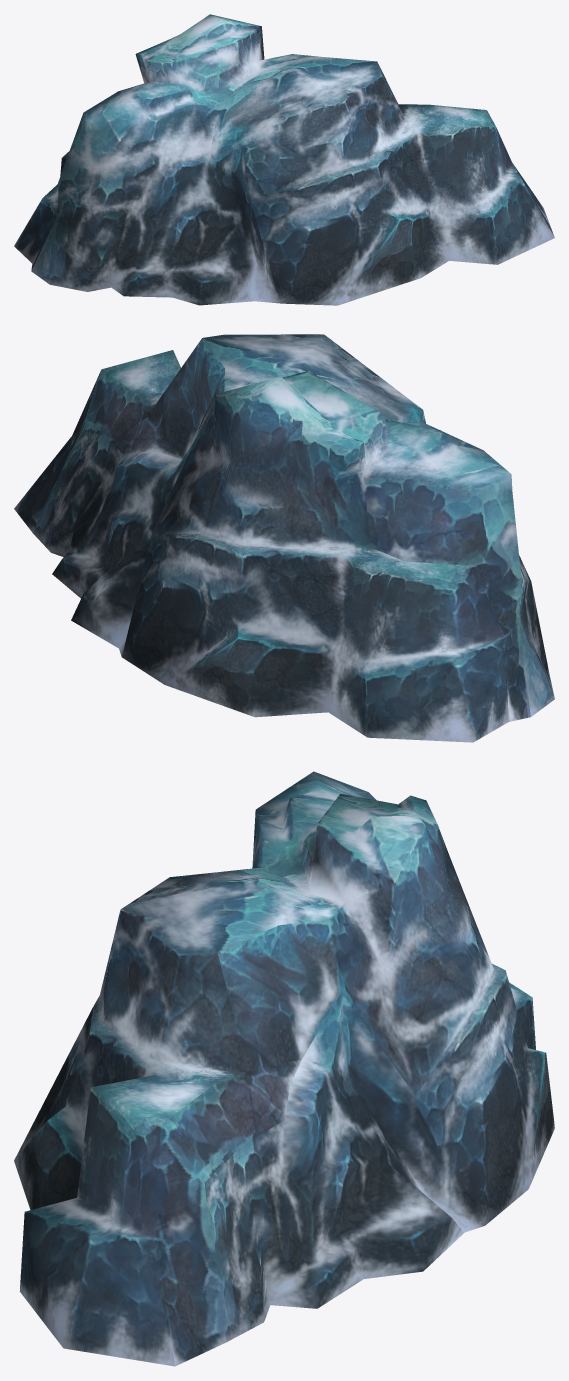
File: ShanTi.FBX
The picture shows the model from 3 angles, top to bottom: view 1: azimuth 30°, elevation 25°; view 2: azimuth 150°, elevation 25°; view 3: azimuth 270°, elevation 25°; orthographic projection. The views are drawn at different scales.
Parts seen in each view (by area): view 1: Box02; view 2: Box02; view 3: Box02.
Part boxes in pixels (x1,y1,x2,y2): Box02: (14, 14, 554, 305); Box02: (14, 334, 554, 742); Box02: (14, 771, 554, 1366).
Size of the model in its own units: 927 by 584 by 405.
